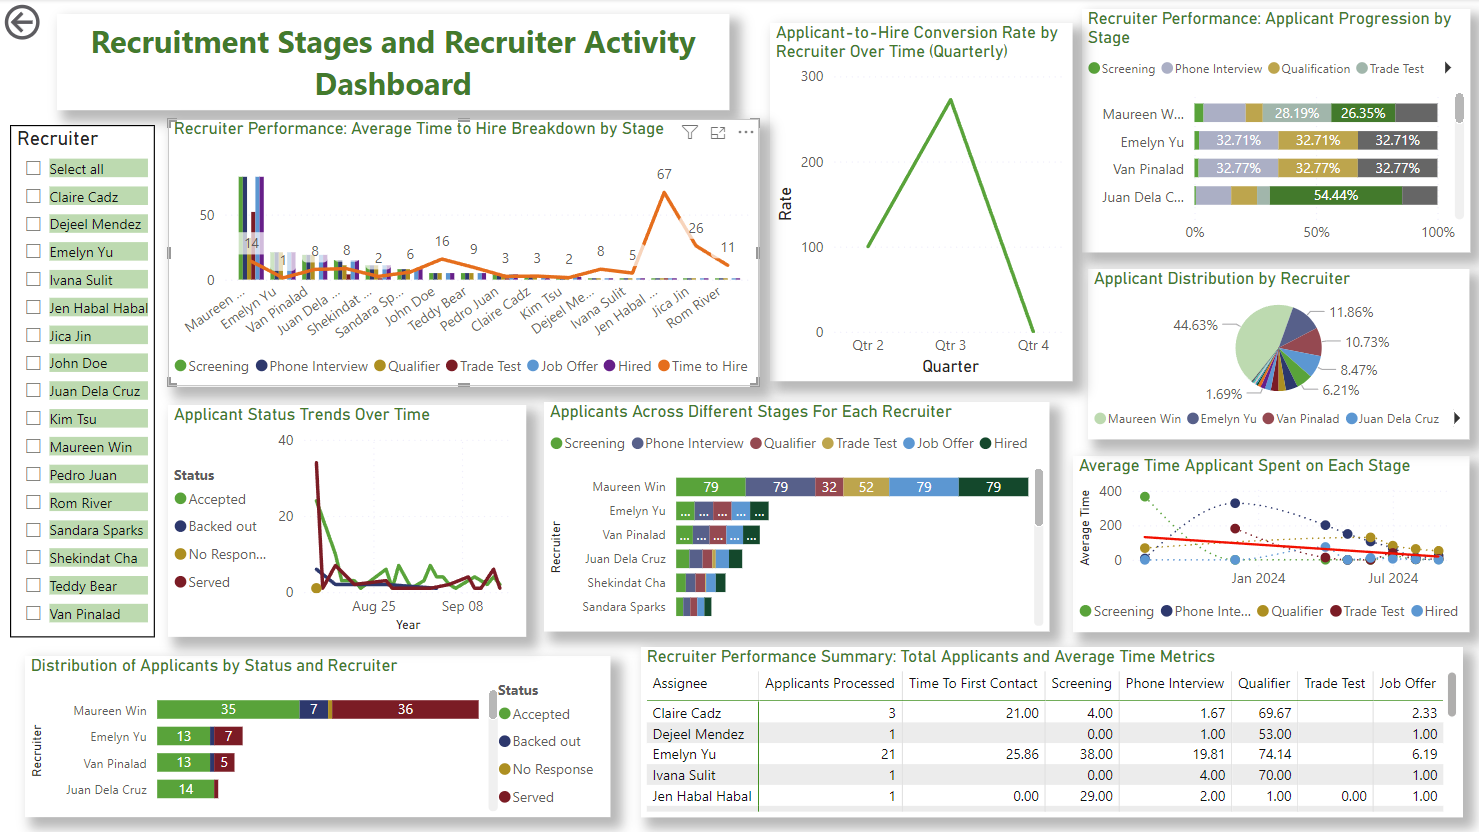

The page's visual inventory and layout, read from the dashboard file:
{"tool":"powerbi","page":{"name":"Page 1","canvas":[1280,720],"ordinal":0},"visuals":[{"type":"barChart","title":"Distribution of Applicants by Status and Recruiter","fields":{"Category":["Candidates(Cleaned).Assignee"],"Y":["Candidates(Cleaned).ApplicantCount"],"Series":["Candidates(Cleaned).Status"]},"box":[22.4,567.1,504.8,139.1],"z":0},{"type":"lineChart","title":"Average Time Applicant Spent on Each Stage","fields":{"Y":["Candidates(Cleaned).AverageScreening_TimeSpent","Candidates(Cleaned).AveragePhoneInterview_TimeSpent","Candidates(Cleaned).AverageQualifier_TimeSpent","Candidates(Cleaned).AverageTradeTest_TimeSpent","Candidates(Cleaned).AverageJobOffer_TimeSpent"],"Category":["Candidates(Cleaned).Screening Date.Variation.Date Hierarchy.Year","Candidates(Cleaned).Screening Date.Variation.Date Hierarchy.Month"]},"box":[926,393.9,342.4,151.7],"z":1000},{"type":"textbox","box":[49.6,12.6,579.7,82.7],"z":2000},{"type":"slicer","title":"Recruiter","fields":{"Values":["Candidates(Cleaned).Assignee"]},"box":[9.7,108.9,125.5,441.6],"z":3000},{"type":"hundredPercentStackedBarChart","title":"Recruiter Performance: Applicant Progression by Stage","fields":{"Category":["Candidates(Cleaned).Assignee"],"Y":["Candidates(Cleaned).ScreeningProgressionRate","Candidates(Cleaned).PhoneInterviewProgressionRate","Candidates(Cleaned).QualificationProgressionRate","Candidates(Cleaned).TradeTestProgressionRate","Candidates(Cleaned).JobOfferProgressionRate","Candidates(Cleaned).HiredProgressionRate"]},"box":[933.7,8.8,334.6,210.1],"z":4000},{"type":"pieChart","title":"Applicant Distribution by Recruiter","fields":{"Category":["Candidates(Cleaned).Assignee"],"Y":["CountNonNull(Candidates(Cleaned).Created)"]},"box":[939.6,232.5,328.8,146.9],"z":5000},{"type":"actionButton","box":[0,0,100,40],"z":6000},{"type":"lineChart","title":"Applicant-to-Hire Conversion Rate by Recruiter Over Time (Quarterly)","fields":{"Y":["Candidates(Cleaned).Applicant2Hire_Rate"],"Category":["Candidates(Cleaned).Expected Start Date.Variation.Date Hierarchy.Quarter"]},"box":[665.3,20.4,260.7,309.3],"z":7000},{"type":"lineClusteredColumnComboChart","title":"Recruiter Performance: Average Time to Hire Breakdown by Stage","fields":{"Category":["Candidates(Cleaned).Assignee"],"Y":["Candidates(Cleaned).ScreeningDate_Total","Candidates(Cleaned).PhoneDate_Total","Candidates(Cleaned).QualifierDate_Total","Candidates(Cleaned).TradeTestDate_Total","Candidates(Cleaned).JobOfferDate_Total","CountNonNull(Candidates(Cleaned).Expected Start Date)"],"Y2":["Candidates(Cleaned).AvgTotalTimeToHire"]},"box":[145.9,103.1,509.7,230.5],"z":8000},{"type":"lineChart","title":"Applicant Status Trends Over Time","fields":{"Y":["Candidates(Cleaned).ApplicantCount"],"Series":["Candidates(Cleaned).Status"],"Category":["Candidates(Cleaned).Created.Variation.Date Hierarchy.Year","Candidates(Cleaned).Created.Variation.Date Hierarchy.Quarter","Candidates(Cleaned).Created.Variation.Date Hierarchy.Month","Candidates(Cleaned).Created.Variation.Date Hierarchy.Day"]},"box":[145.9,350.2,309.3,200.4],"z":9000},{"type":"barChart","title":"Applicants Across Different Stages For Each Recruiter","fields":{"Category":["Candidates(Cleaned).Assignee"],"Y":["Candidates(Cleaned).ScreeningDate_Total","Candidates(Cleaned).PhoneDate_Total","Candidates(Cleaned).QualifierDate_Total","Candidates(Cleaned).TradeTestDate_Total","Candidates(Cleaned).JobOfferDate_Total","CountNonNull(Candidates(Cleaned).Expected Start Date)"]},"box":[469.8,347.2,435.7,198.4],"z":10000},{"type":"pivotTable","title":"Recruiter Performance Summary: Total Applicants and Average Time Metrics","fields":{"Rows":["Candidates(Cleaned).Assignee"],"Values":["Candidates(Cleaned).ApplicantCount","Candidates(Cleaned).AvgTimeToFirstContact","Candidates(Cleaned).AverageScreening_TimeSpent","Candidates(Cleaned).AveragePhoneInterview_TimeSpent","Candidates(Cleaned).AverageQualifier_TimeSpent","Candidates(Cleaned).AverageTradeTest_TimeSpent","Candidates(Cleaned).AverageJobOffer_TimeSpent"]},"box":[553.4,559.3,709.1,146.9],"z":11000}]}

Visuals, with their boxes in screenshot pixels (x1, y1, x2, y2), scaled from the page's 1280x720 canvas onto the 1479x832 screenshot:
"Distribution of Applicants by Status and Recruiter" barChart: box(26, 655, 609, 816)
"Average Time Applicant Spent on Each Stage" lineChart: box(1070, 455, 1466, 630)
textbox: box(57, 15, 727, 110)
"Recruiter" slicer: box(11, 126, 156, 636)
"Recruiter Performance: Applicant Progression by Stage" hundredPercentStackedBarChart: box(1079, 10, 1465, 253)
"Applicant Distribution by Recruiter" pieChart: box(1086, 269, 1466, 438)
actionButton: box(0, 0, 116, 46)
"Applicant-to-Hire Conversion Rate by Recruiter Over Time (Quarterly)" lineChart: box(769, 24, 1070, 381)
"Recruiter Performance: Average Time to Hire Breakdown by Stage" lineClusteredColumnComboChart: box(169, 119, 758, 385)
"Applicant Status Trends Over Time" lineChart: box(169, 405, 526, 636)
"Applicants Across Different Stages For Each Recruiter" barChart: box(543, 401, 1046, 630)
"Recruiter Performance Summary: Total Applicants and Average Time Metrics" pivotTable: box(639, 646, 1459, 816)
